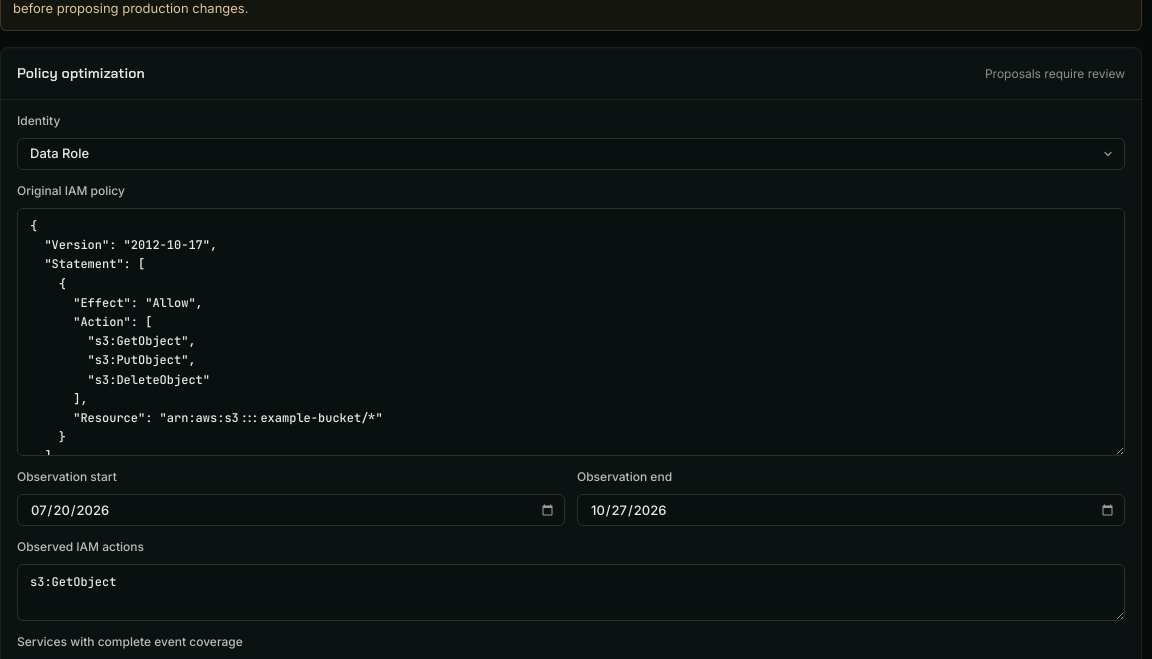
Test case: Remediation hub › displays invalid JSON errors
Replace the text in the text box labelled "Original IAM policy" with "invalid" at (571, 332), box [17, 208, 1125, 456]
(page scrolled)
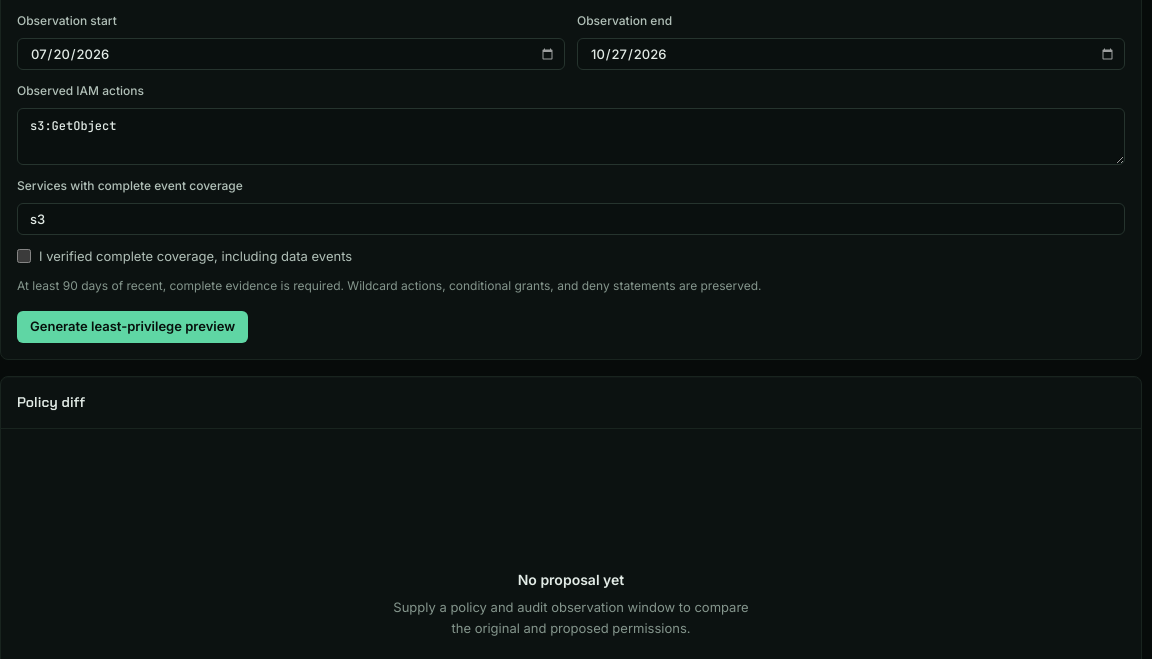
Click the button "Generate least-privilege preview".
click(133, 327)  # box [17, 311, 248, 343]
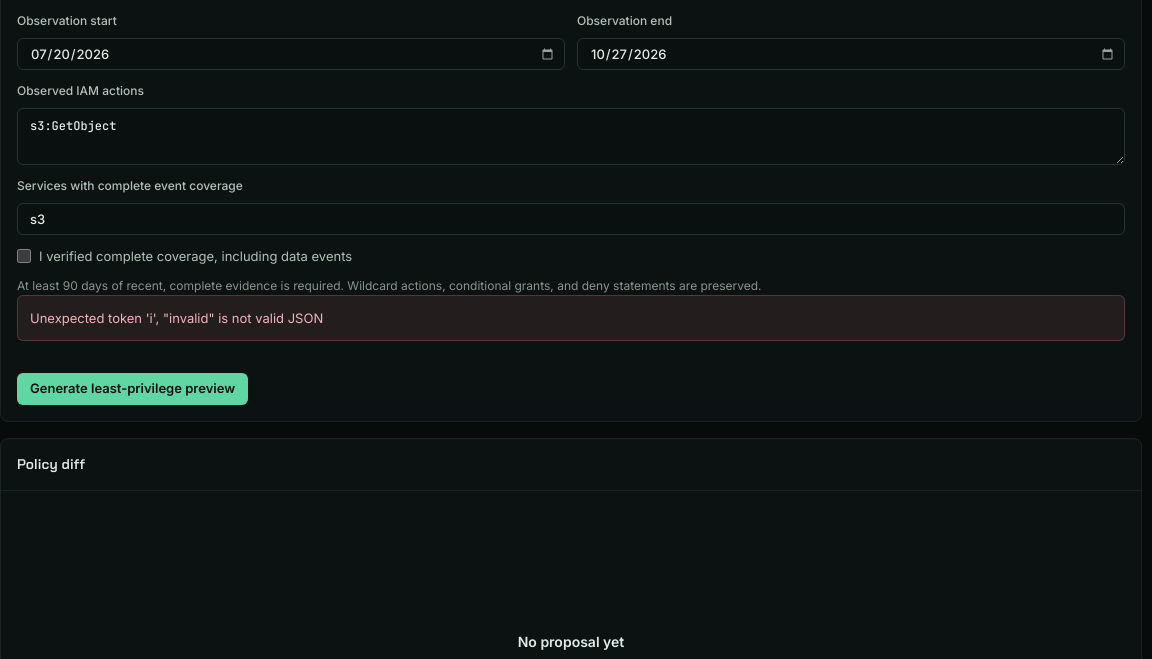
Expected: the message "Unexpected token 'i', \"invalid\" is not valid JSON" is shown, [17, 295, 1125, 341]
